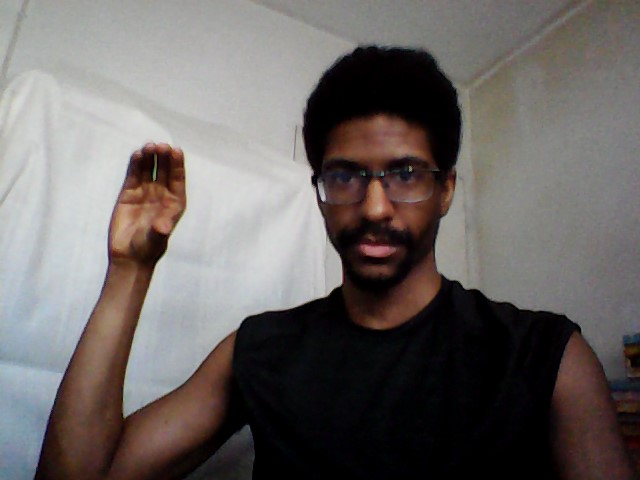c: (103, 138, 191, 271)
